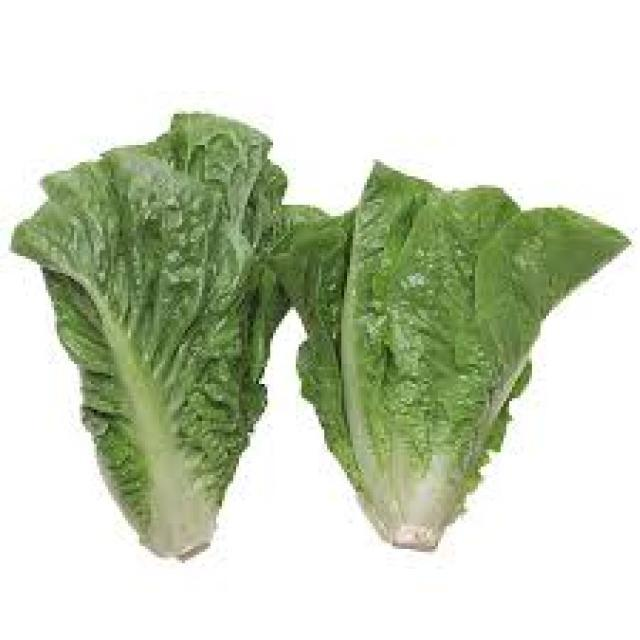Lettuce: (276, 160, 632, 555), (17, 108, 296, 565)
